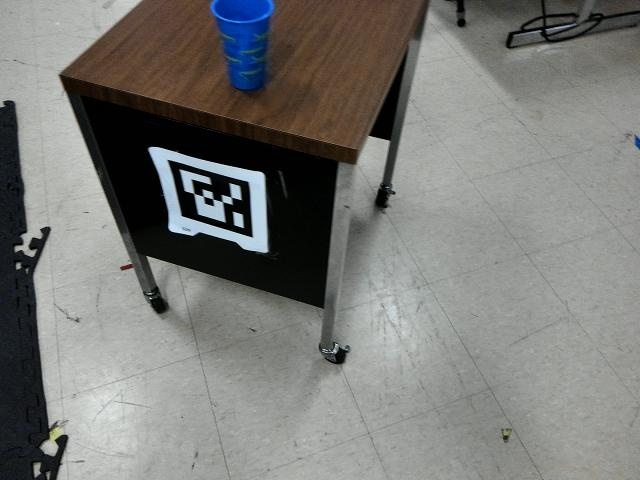water_cup: (203, 1, 285, 95)
